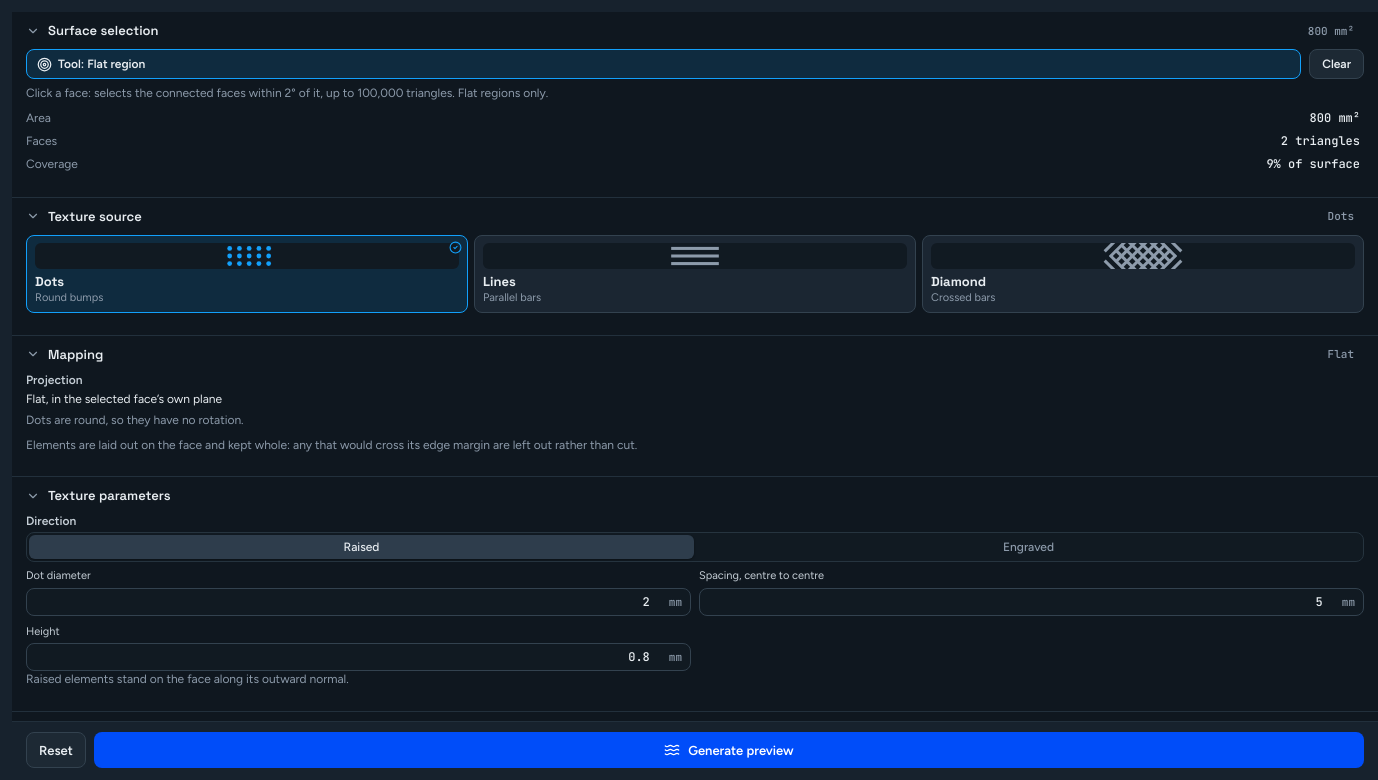
Test: texture source, mapping and parameters › reset restores the default settings and keeps the selection
Click the radio button with test id "texture-pattern-diamond": click(1143, 256) [922,235,1364,313]
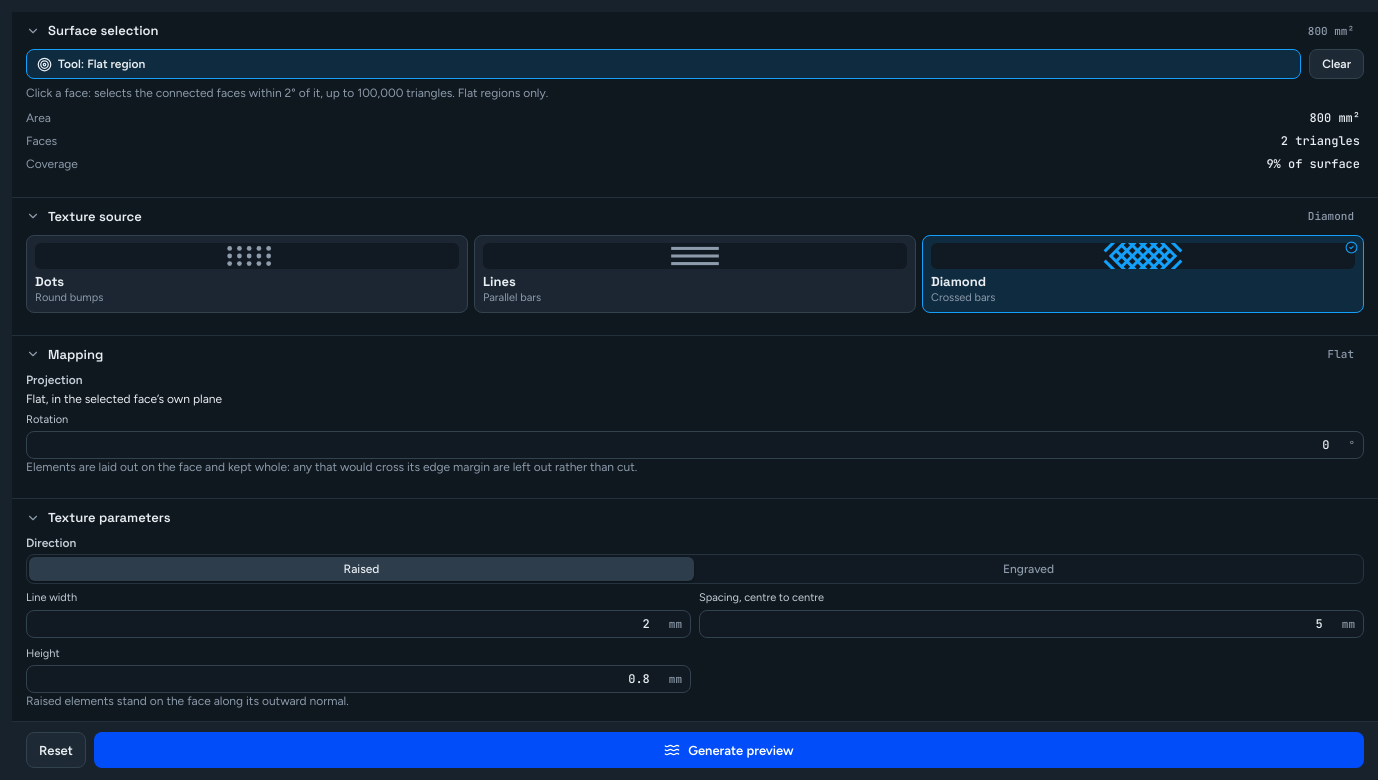
Click the button with test id "texture-reset": click(56, 750) [26,732,86,768]
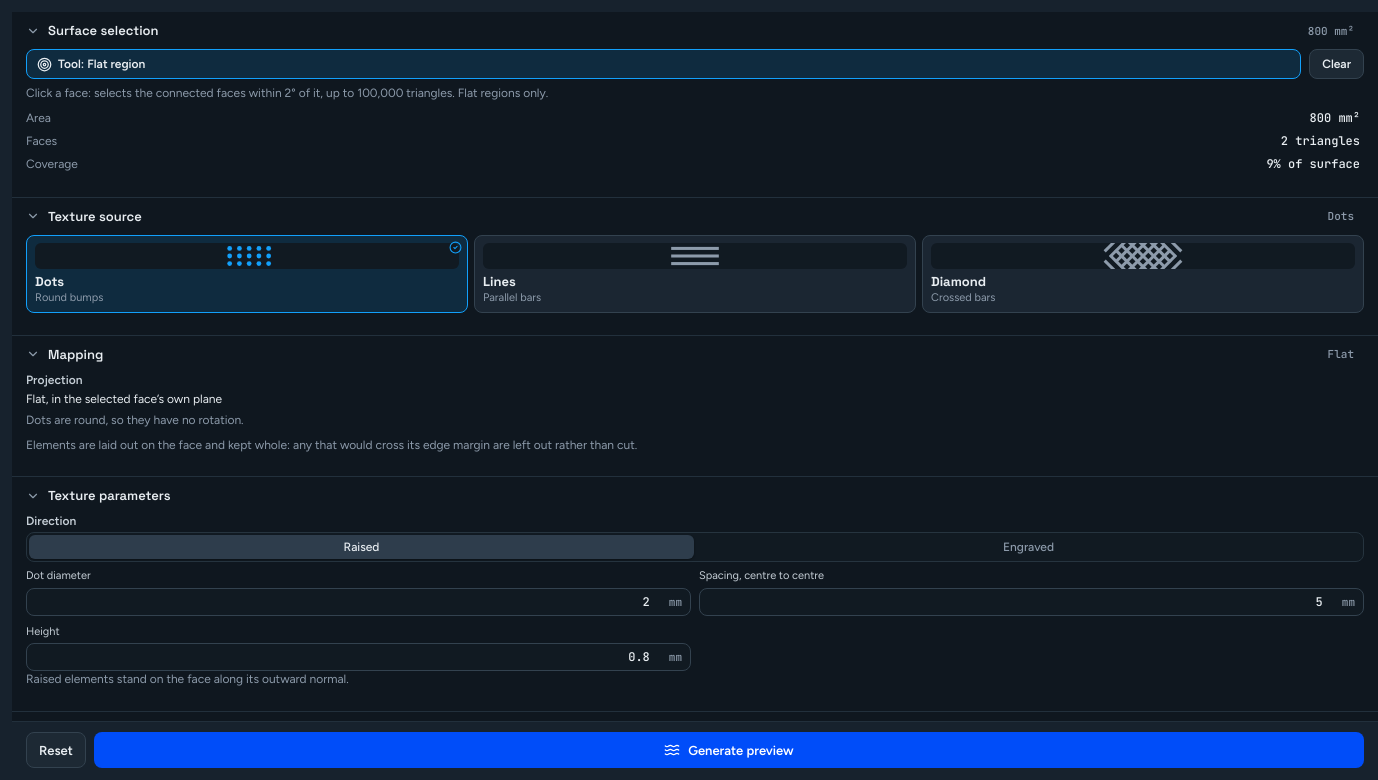
Expected: the radio button with test id "texture-pattern-dots" is checked, [26,235,468,313]
